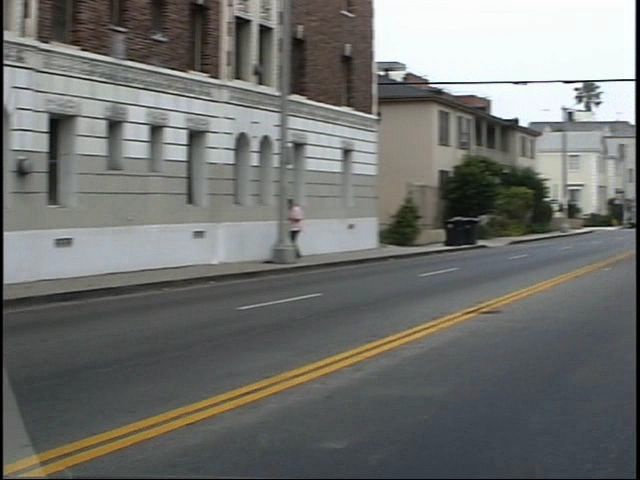person: (306, 190, 329, 262)
